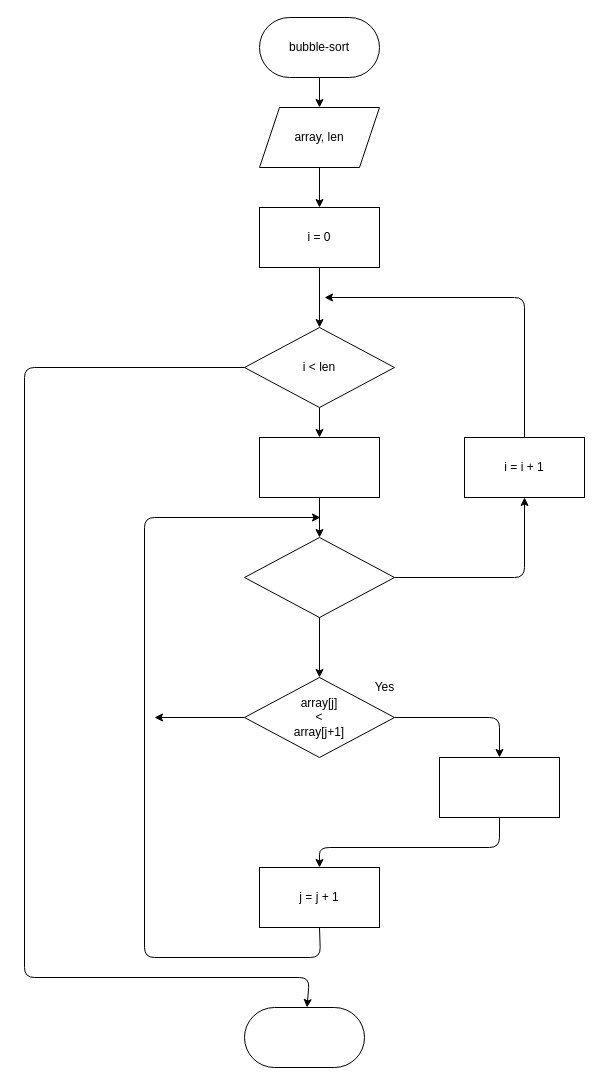
This 602x1085 diagram has some shape labels left out. Here are the shapes that lost their labels. From the top down, the centre of each, then its label:
At (319,467): "j = 0".
At (319,577): "j < len".
At (499,787): "temp = array[i] array[i] = array[j] array[j] = temp".
At (304,1037): "END".
